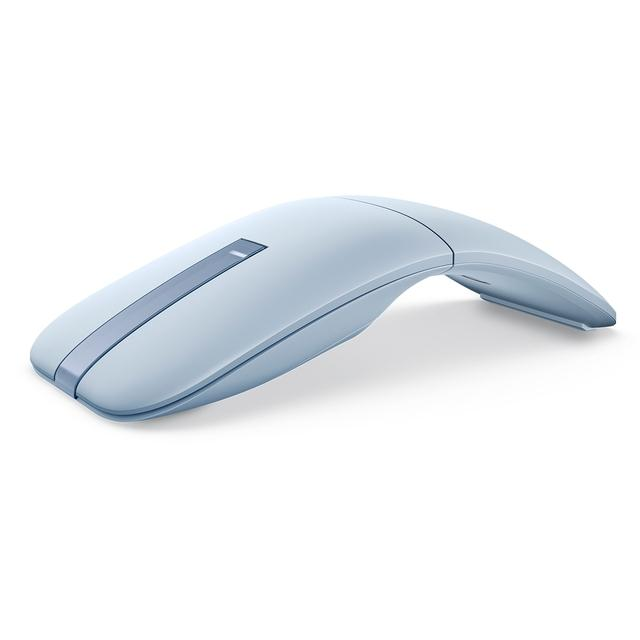mouse: (21, 139, 638, 452)
